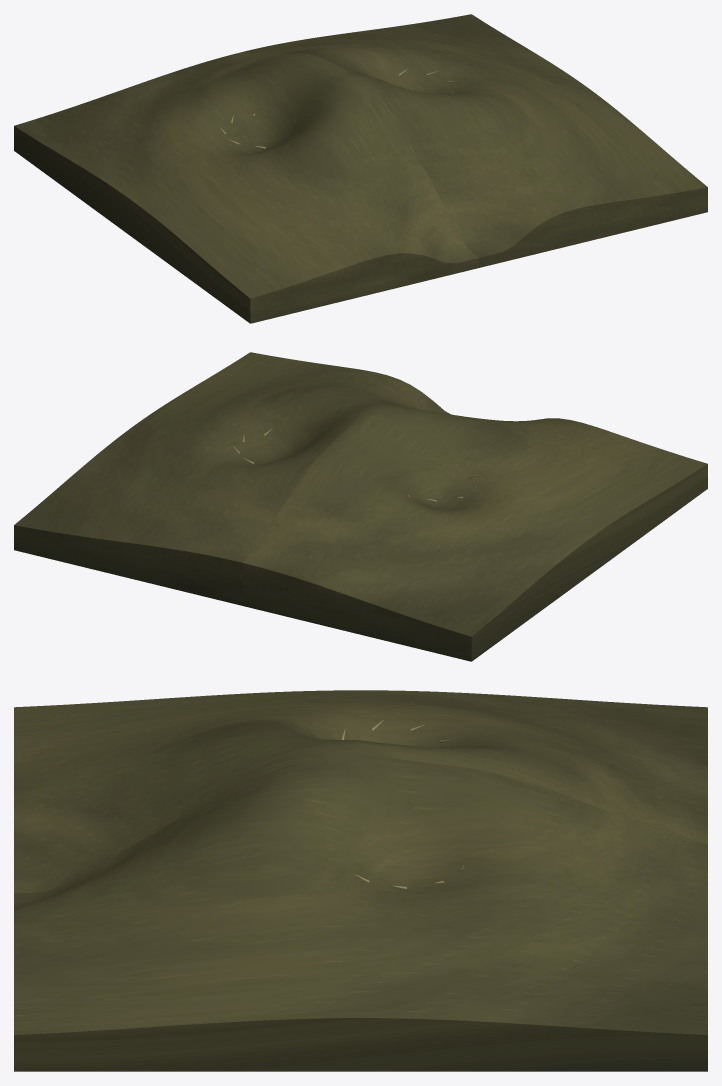
The model's file is bellroot-fen-floodward-marches-shellback-nesting-hummo-dc5fe152.glb.
3 views of the same model, one above another, from view 1: azimuth 30°, elevation 25°; view 2: azimuth 150°, elevation 25°; view 3: azimuth 270°, elevation 25° (orthographic). The views are drawn at different scales.
Parts seen in each view (by area): view 1: shellback-nesting-hummock; view 2: shellback-nesting-hummock; view 3: shellback-nesting-hummock.
Boxes of the visible parts, bbox=[...] form: shellback-nesting-hummock: bbox=[14, 14, 707, 323]; shellback-nesting-hummock: bbox=[14, 352, 707, 661]; shellback-nesting-hummock: bbox=[14, 690, 707, 1071].
Bounding box in the file's own units: 3.8 × 0.8392 × 3.4.
Materials: 2 (2 with a texture image).
